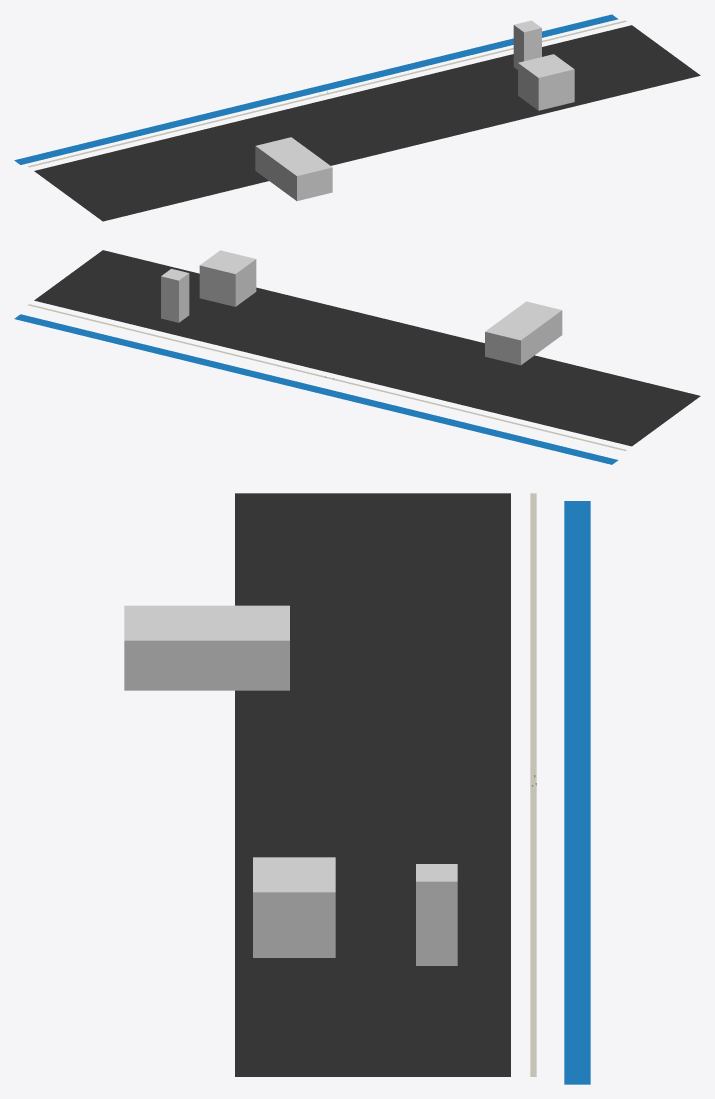
3 views of the same model, one above another, from view 1: azimuth 30°, elevation 25°; view 2: azimuth 150°, elevation 25°; view 3: azimuth 270°, elevation 25° (orthographic). The views are drawn at different scales.
Visible parts, largest first — view 1: PlaneAsphalt, PlaneRiver, Building.006, Building.005, PlaneSidewalk, Building.004; view 2: PlaneAsphalt, PlaneRiver, Building.006, Building.005, Building.004, PlaneSidewalk; view 3: PlaneAsphalt, PlaneRiver, Building.006, Building.005, Building.004, PlaneSidewalk.
Boxes of the visible parts, bbox=[...] form: PlaneAsphalt: bbox=[34, 25, 700, 221]; PlaneRiver: bbox=[14, 14, 618, 164]; Building.006: bbox=[255, 137, 332, 200]; Building.005: bbox=[518, 54, 574, 110]; PlaneSidewalk: bbox=[28, 20, 626, 167]; Building.004: bbox=[513, 20, 541, 69]; PlaneAsphalt: bbox=[34, 250, 700, 446]; PlaneRiver: bbox=[14, 314, 618, 464]; Building.006: bbox=[485, 301, 562, 365]; Building.005: bbox=[199, 250, 256, 306]; Building.004: bbox=[161, 269, 189, 322]; PlaneSidewalk: bbox=[28, 304, 626, 450]; PlaneAsphalt: bbox=[235, 493, 510, 1076]; PlaneRiver: bbox=[564, 501, 590, 1084]; Building.006: bbox=[124, 605, 289, 690]; Building.005: bbox=[253, 857, 335, 957]; Building.004: bbox=[416, 864, 457, 965]; PlaneSidewalk: bbox=[530, 493, 536, 1076].
Bounding box in the file's own units: 160000 × 54022 × 11781.
